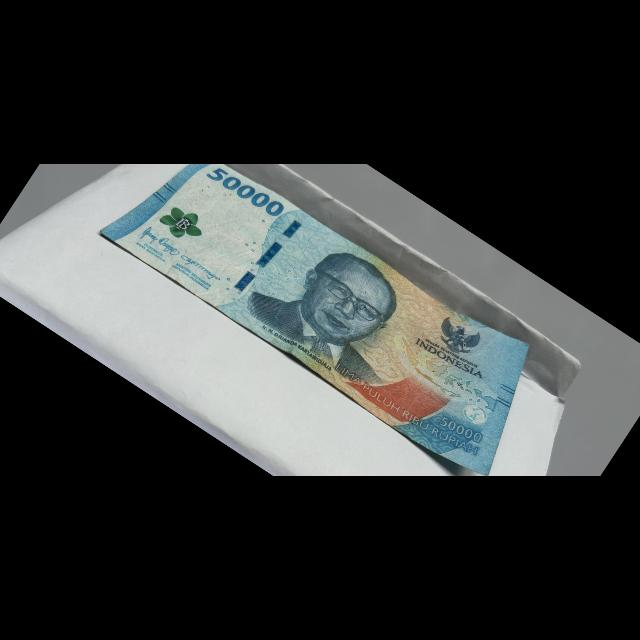Palsu-50k: (81, 121, 560, 476)
Tinta-Palsu-50k: (155, 196, 212, 251)
